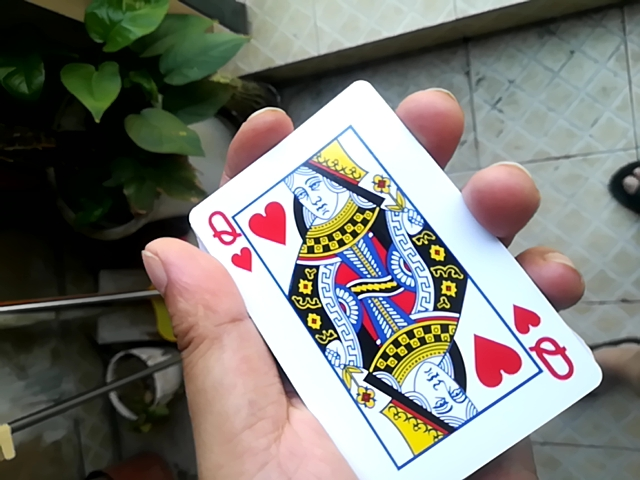hx q: (170, 71, 597, 480)
